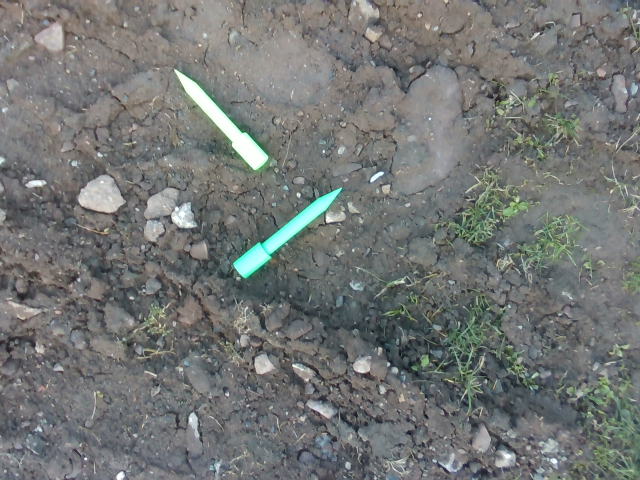Probe: (230, 177, 351, 284), (169, 60, 274, 176)
